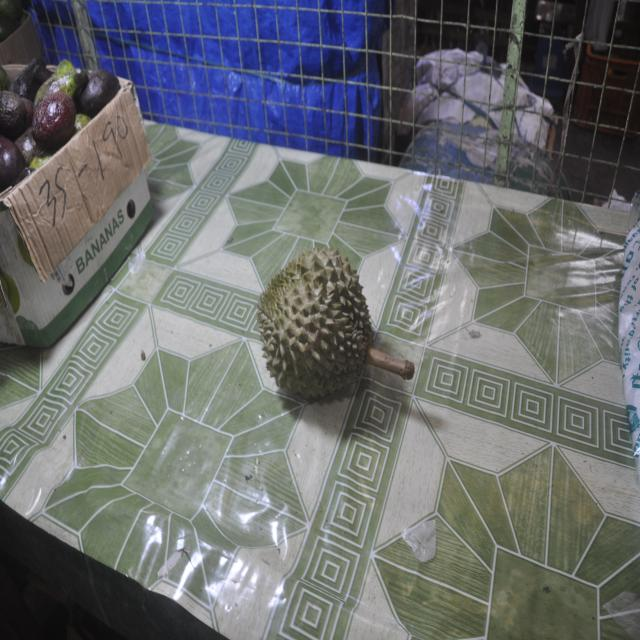mature: (257, 248, 374, 399)
